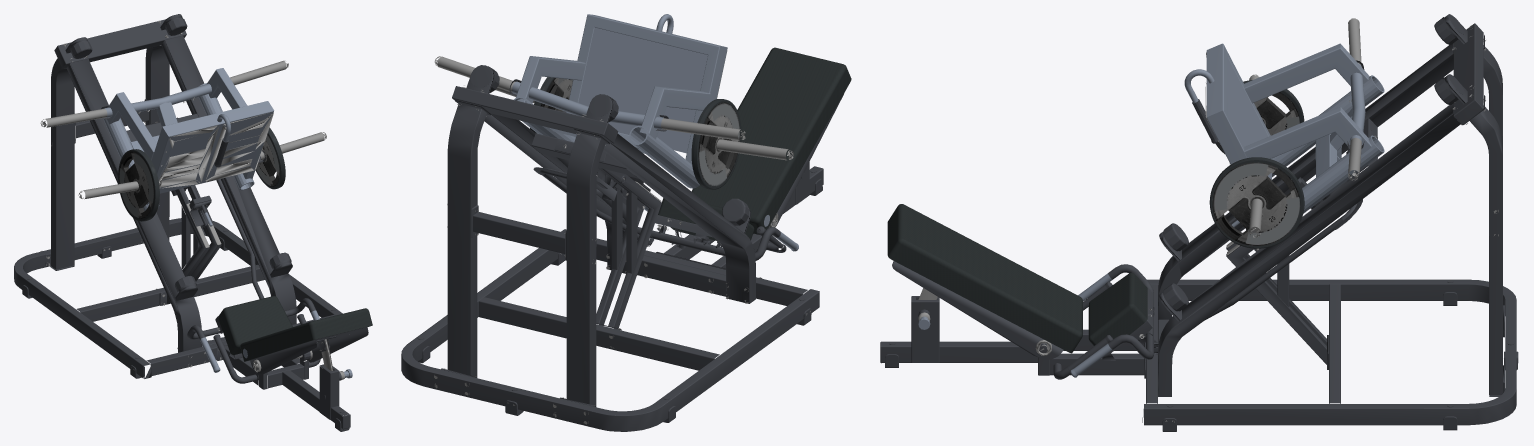
File: linearlegpresspure-terra.glb
The picture shows the model from 3 angles, left to right: view 1: azimuth 30°, elevation 25°; view 2: azimuth 150°, elevation 25°; view 3: azimuth 270°, elevation 25°; orthographic projection. The views are drawn at different scales.
Visible parts, largest first — view 1: Mesh_4, sled, Mesh_6, Mesh_0, Mesh_1, Mesh_2; view 2: Mesh_4, sled, Mesh_6, Mesh_0, Mesh_1; view 3: Mesh_4, sled, Mesh_6, Mesh_0, Mesh_2, Mesh_1.
Boxes of the visible parts, left/top/right/bottom form: Mesh_4: left=14, top=14, right=368, bottom=428; sled: left=40, top=36, right=326, bottom=302; Mesh_6: left=218, top=296, right=372, bottom=361; Mesh_0: left=22, top=18, right=350, bottom=431; Mesh_1: left=40, top=21, right=344, bottom=380; Mesh_2: left=200, top=212, right=352, bottom=378; Mesh_4: left=401, top=65, right=843, bottom=431; sled: left=434, top=14, right=793, bottom=244; Mesh_6: left=658, top=47, right=851, bottom=240; Mesh_0: left=417, top=66, right=823, bottom=422; Mesh_1: left=434, top=85, right=810, bottom=424; Mesh_4: left=881, top=14, right=1516, bottom=425; sled: left=1175, top=18, right=1460, bottom=326; Mesh_6: left=887, top=204, right=1147, bottom=353; Mesh_0: left=880, top=17, right=1518, bottom=431; Mesh_2: left=918, top=220, right=1239, bottom=377; Mesh_1: left=918, top=25, right=1498, bottom=422.
Bounding box in the file's own units: 1.56 × 1.5 × 2.69.
6 materials, 2 textured.
